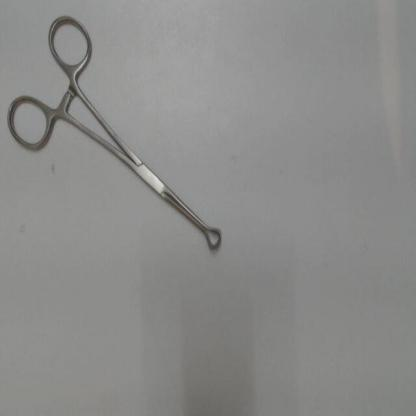Babcock Tissue Forceps: (2, 9, 227, 256)
